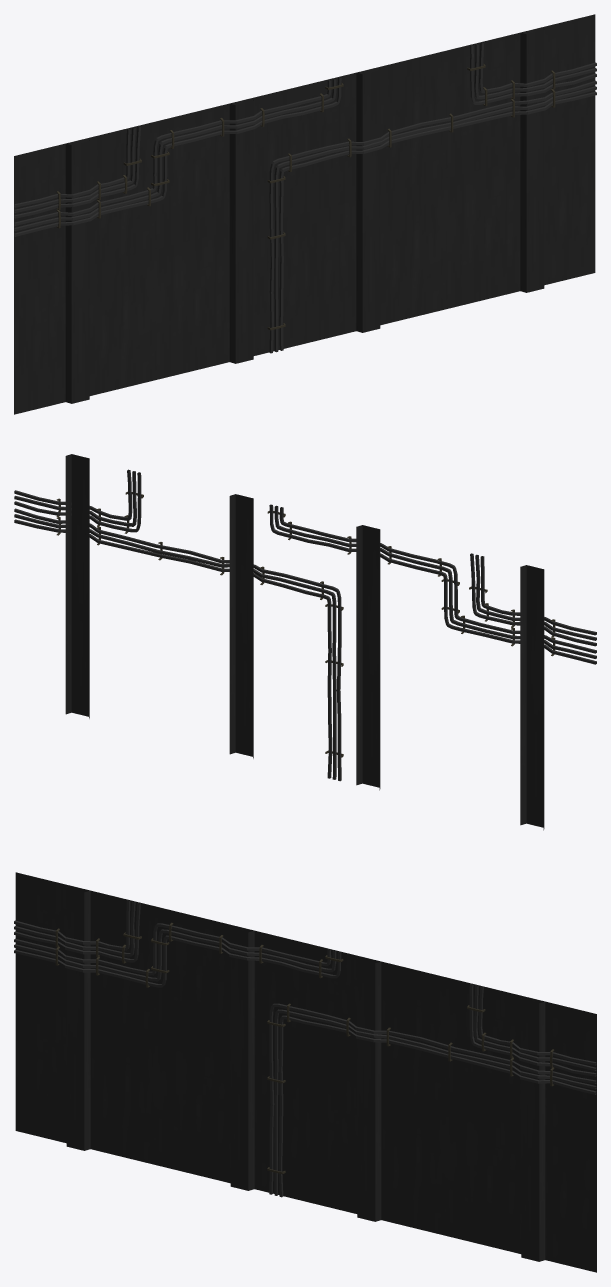
Rendered from SW_ENV_RailTunnelWall_B_01b_10m_FF.fbx.
The picture shows the model from 3 angles, top to bottom: view 1: azimuth 30°, elevation 25°; view 2: azimuth 150°, elevation 25°; view 3: azimuth 330°, elevation 25°; orthographic projection.
Visible parts, largest first — view 1: SW_ENV_RailTunnelWall_B_01b_10m_FF; view 2: SW_ENV_RailTunnelWall_B_01b_10m_FF; view 3: SW_ENV_RailTunnelWall_B_01b_10m_FF.
Boxes of the visible parts, x1,y1,x2,y2 form: SW_ENV_RailTunnelWall_B_01b_10m_FF: [14, 14, 596, 414]; SW_ENV_RailTunnelWall_B_01b_10m_FF: [14, 454, 596, 830]; SW_ENV_RailTunnelWall_B_01b_10m_FF: [14, 872, 596, 1272].
Size of the model in its own units: 1000 by 425 by 14.88.
